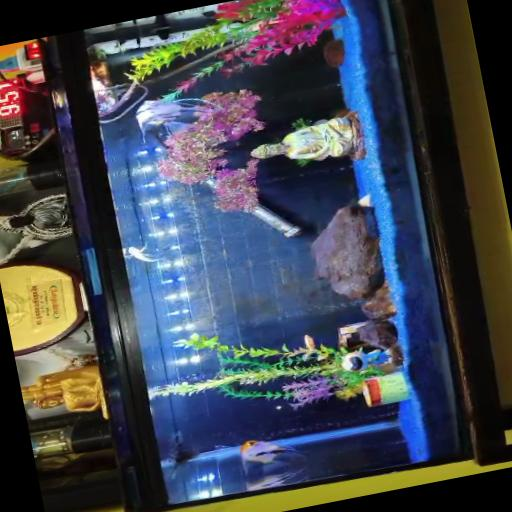Fish: (241, 439, 307, 489), (136, 99, 207, 140), (136, 99, 206, 128), (247, 469, 307, 489), (127, 246, 160, 261)
